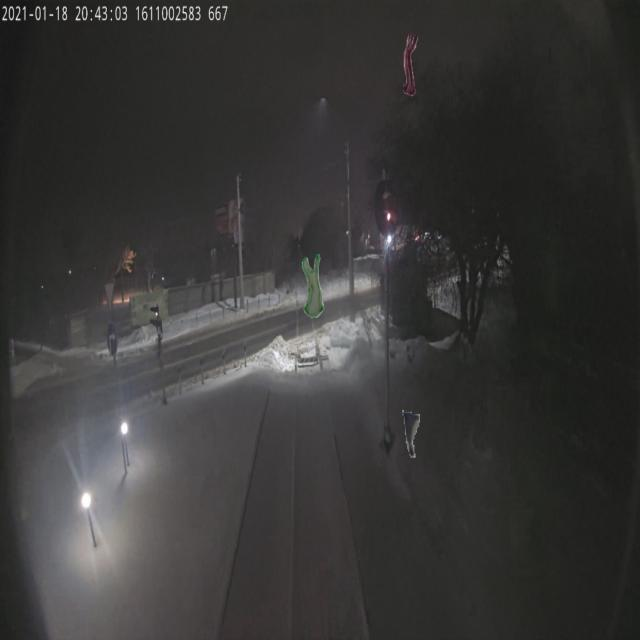floating object: (401, 396, 420, 460), (403, 32, 418, 96)
plastic bag: (302, 254, 324, 318)
